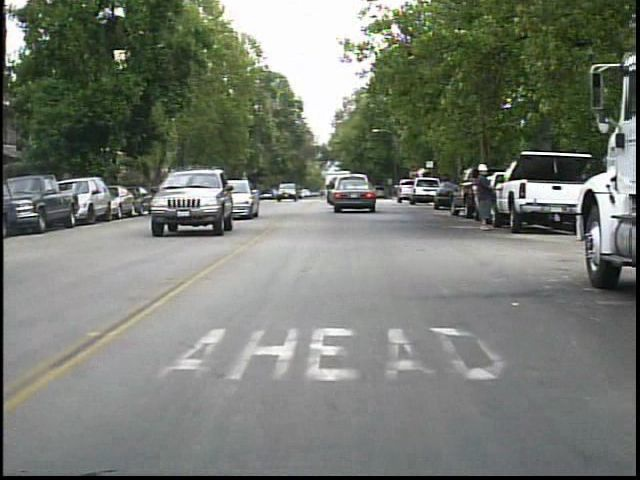person: (470, 160, 501, 235)
